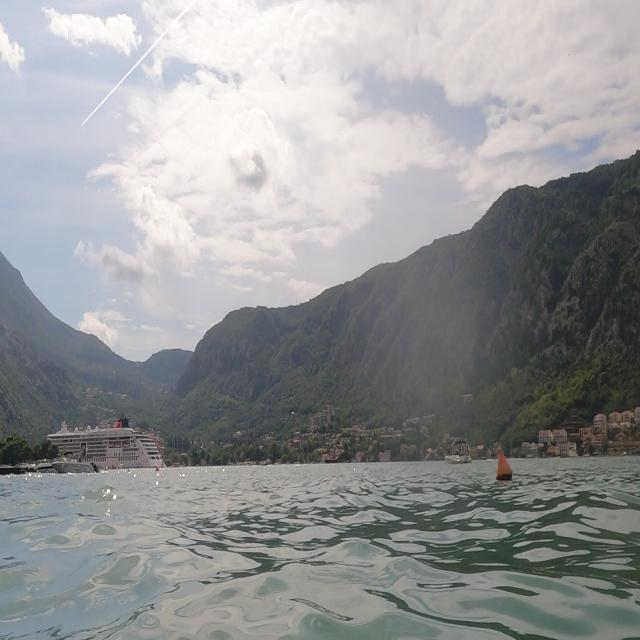boat: (41, 420, 178, 476), (441, 428, 473, 479)
buoy: (492, 442, 516, 488)
